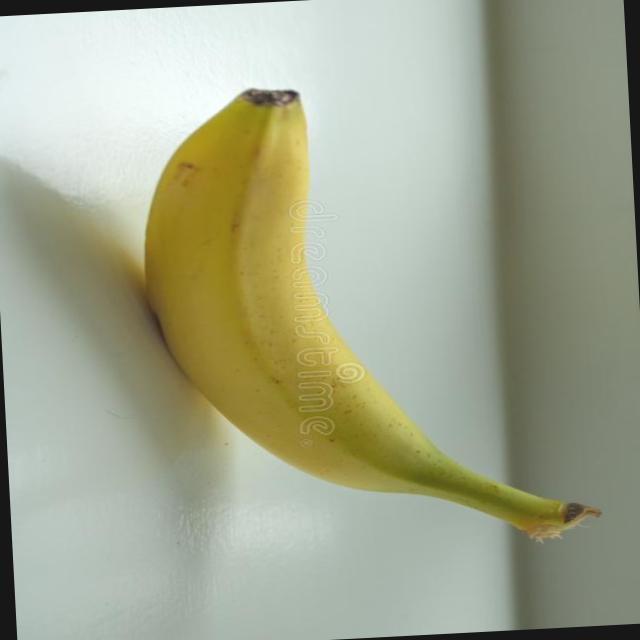Platano: (131, 70, 593, 562)
